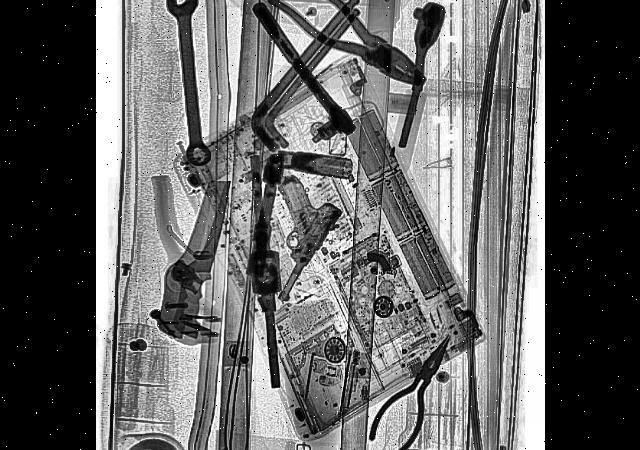Gun: (240, 148, 342, 314)
Pliers: (264, 0, 430, 111), (362, 318, 463, 450)
Wrench: (162, 0, 213, 170)
